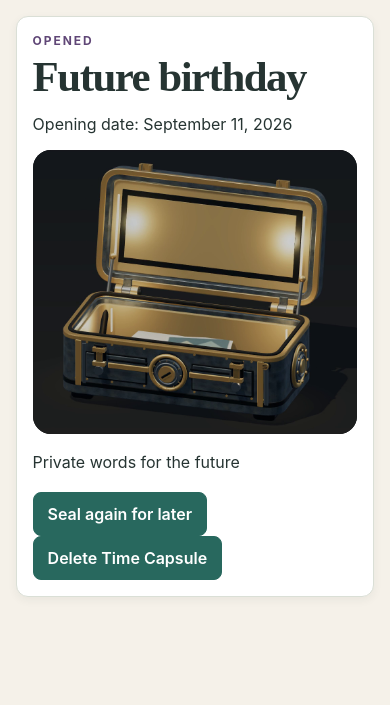
Scenario: canceling or failing to reseal leaves opened content visible and prevents duplicate submissions
Click the button "Seal again for later". click: point(120, 514)
box: [33,492,207,536]
(page scrolled)
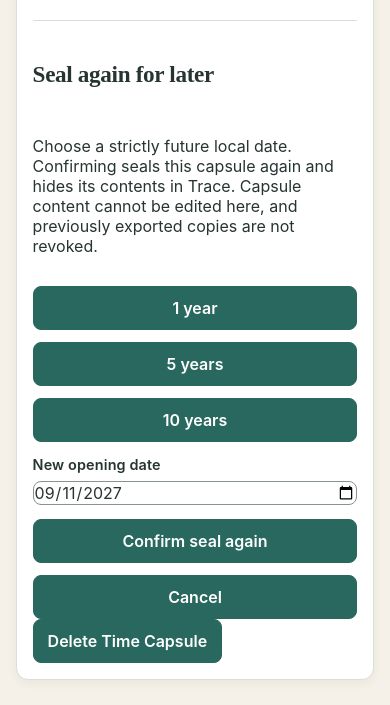
Type "2028-09-11" into the date field labelled "New opening date". click: point(195, 493)
box: [33,481,357,505]
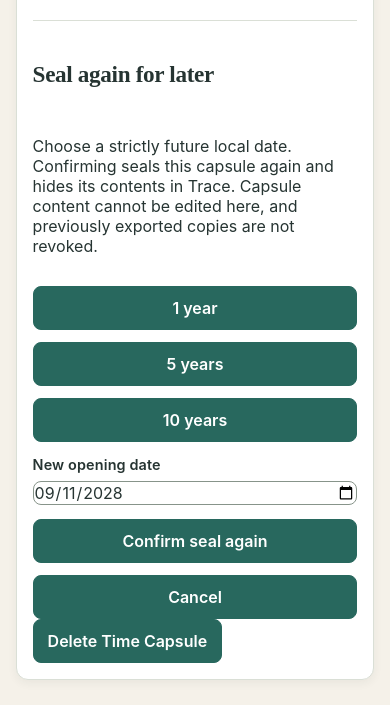
Click the button "Cancel". click: point(195, 597)
box: [33,575,357,619]
(page scrolled)
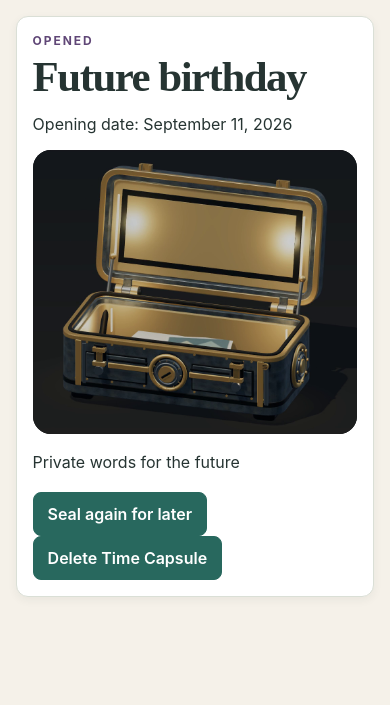
Expected: the text "Private words for the future" is shown, [33,452,240,472]
Click the button "Seal again for later". click: point(120, 514)
box: [33,492,207,536]
(page scrolled)
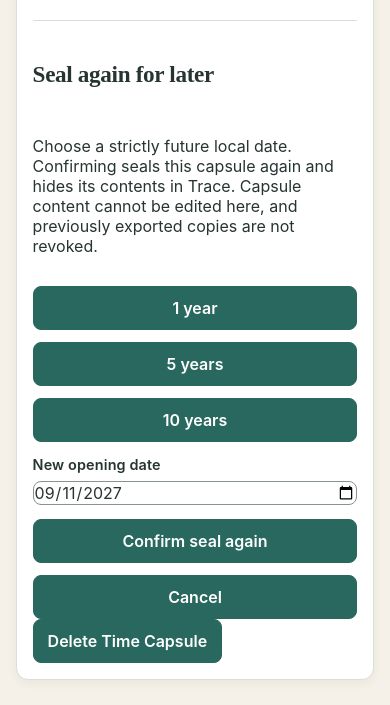
Click the button "Confirm seal again". click: point(195, 541)
box: [33,519,357,563]
(page scrolled)
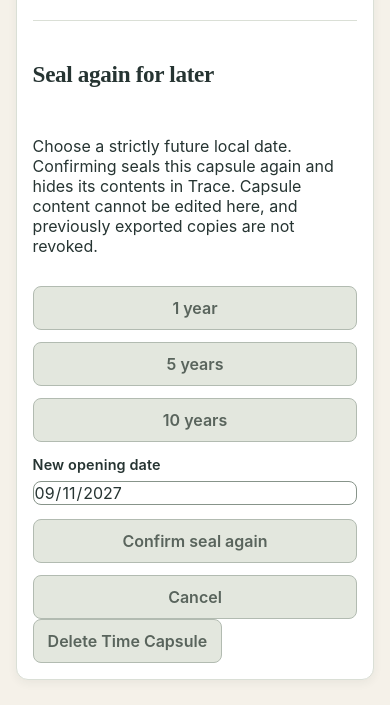
Result: the button "Confirm seal again" is disabled
Click the button "Confirm seal again". click: point(195, 541)
box: [33,519,357,563]
(page scrolled)
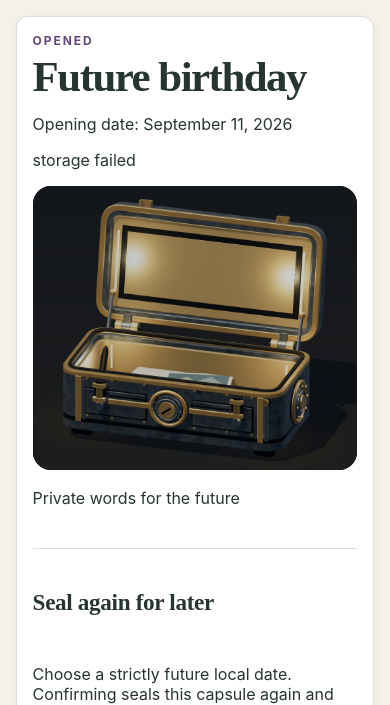
Expected: the text "Opened" is shown, [33,33,94,48]
Result: the message reads "storage failed" at [33,150,136,170]
Result: the text "Private words for the future" is shown at [33,488,240,508]
